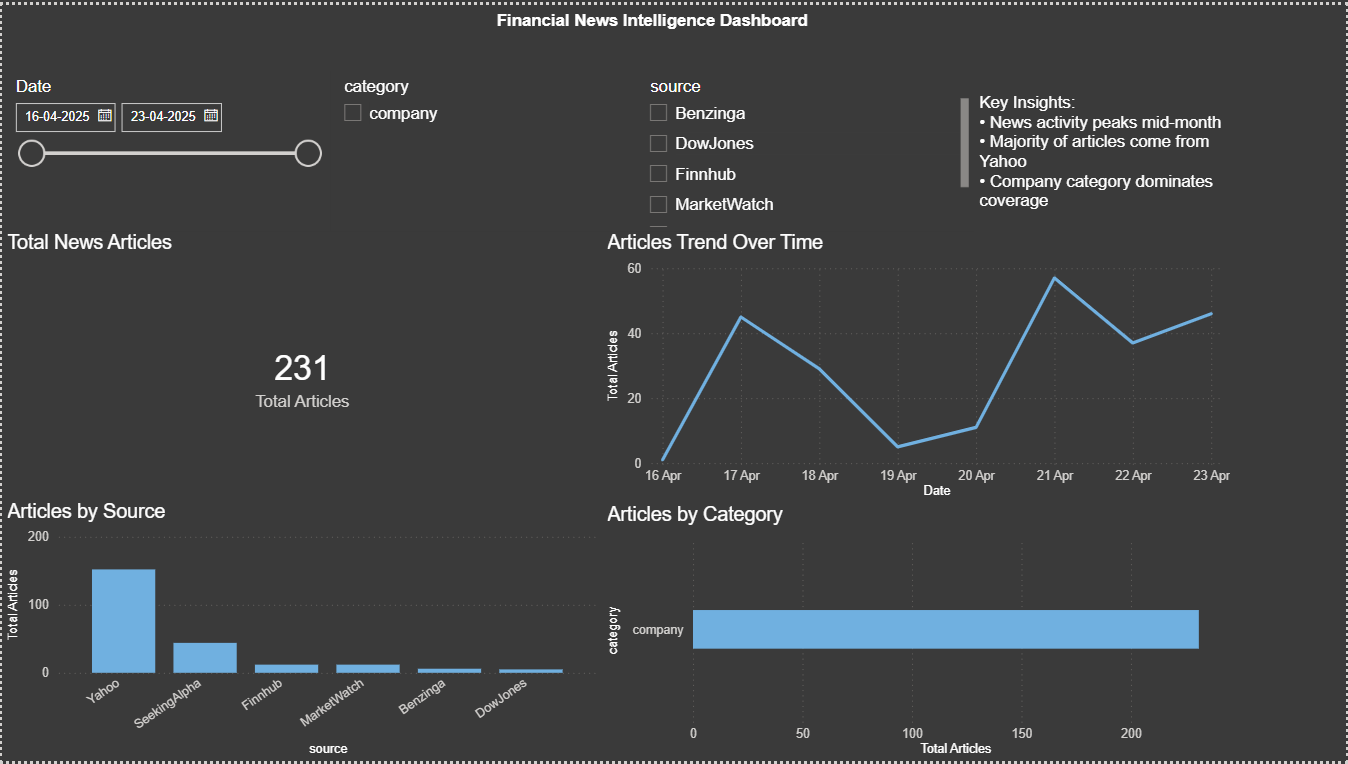

This screenshot's page, from the dashboard's own definition file:
{"tool":"powerbi","page":{"name":"Page 1","canvas":[1280,720],"ordinal":0},"visuals":[{"type":"lineChart","title":"Articles Trend Over Time","fields":{"Category":["Dim_Date.Date"],"Y":["KPI_Table.Total Articles"]},"box":[571.4,215.7,602.9,258.6],"z":0},{"type":"card","title":"Total News Articles","fields":{"Values":["KPI_Table.Total Articles"]},"box":[0,215.7,571.4,255.7],"z":1000},{"type":"clusteredBarChart","title":"Articles by Category","fields":{"Category":["news_fact.category"],"Y":["KPI_Table.Total Articles"]},"box":[571.4,474.3,602.9,245.7],"z":2000},{"type":"clusteredColumnChart","title":" Articles by Source","fields":{"Category":["news_fact.source"],"Y":["KPI_Table.Total Articles"]},"box":[0,471.4,571.4,248.6],"z":3000},{"type":"slicer","fields":{"Values":["Dim_Date.Date"]},"box":[0,62.9,312.9,152.9],"z":4000},{"type":"slicer","fields":{"Values":["news_fact.category"]},"box":[312.9,62.9,291.4,152.9],"z":5000},{"type":"slicer","fields":{"Values":["news_fact.source"]},"box":[604.3,62.9,321.4,152.9],"z":6000},{"type":"textbox","box":[438.6,0,361.4,37.1],"z":7000},{"type":"textbox","box":[925.7,62.9,248.6,152.9],"z":8000}]}

Visuals, with their boxes in screenshot pixels (x1, y1, x2, y2), scaled from the page's 1280x720 canvas onto the 1348x764 screenshot:
"Articles Trend Over Time" lineChart: Rect(602, 229, 1237, 503)
"Total News Articles" card: Rect(0, 229, 602, 500)
"Articles by Category" clusteredBarChart: Rect(602, 503, 1237, 763)
" Articles by Source" clusteredColumnChart: Rect(0, 500, 602, 763)
slicer - Dim_Date.Date: Rect(0, 67, 330, 229)
slicer - news_fact.category: Rect(330, 67, 636, 229)
slicer - news_fact.source: Rect(636, 67, 975, 229)
textbox: Rect(462, 0, 843, 39)
textbox: Rect(975, 67, 1237, 229)
